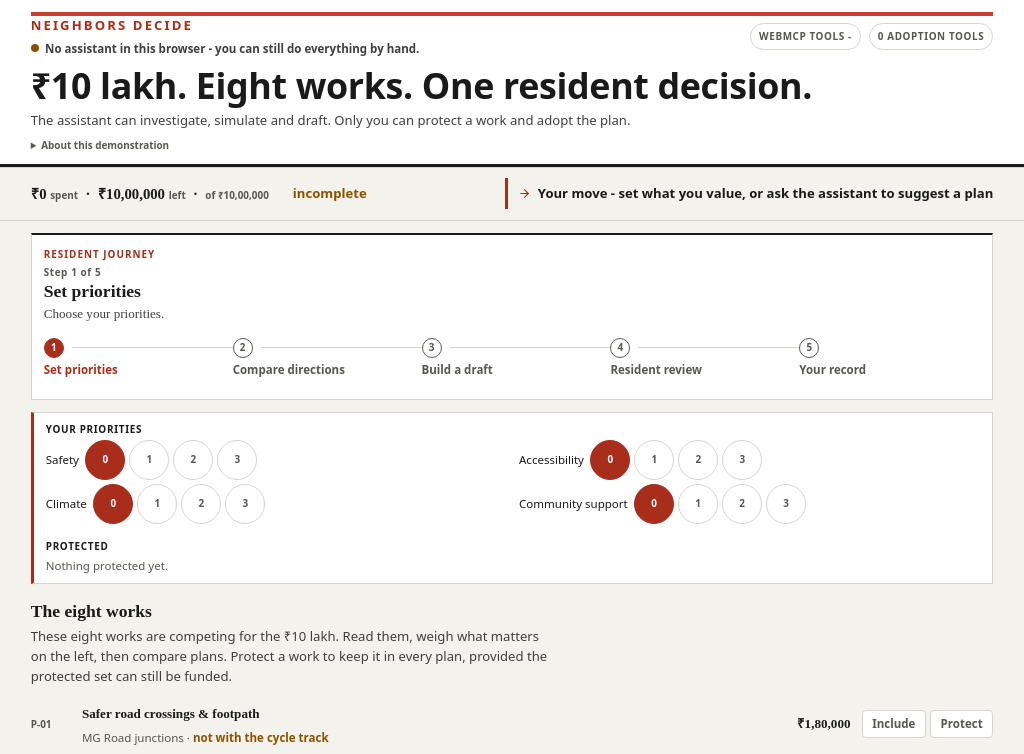
Test: priorities + compare › the plans stay hidden until priorities are confirmed
Check: the text "incomplete" is shown, box [293,184,367,204]
Check: the text "Step 1 of 5" is shown, box [44,265,101,279]
Click the radio button named "Safety 3".
click(237, 460)  # box [217,440,257,480]
(page scrolled)
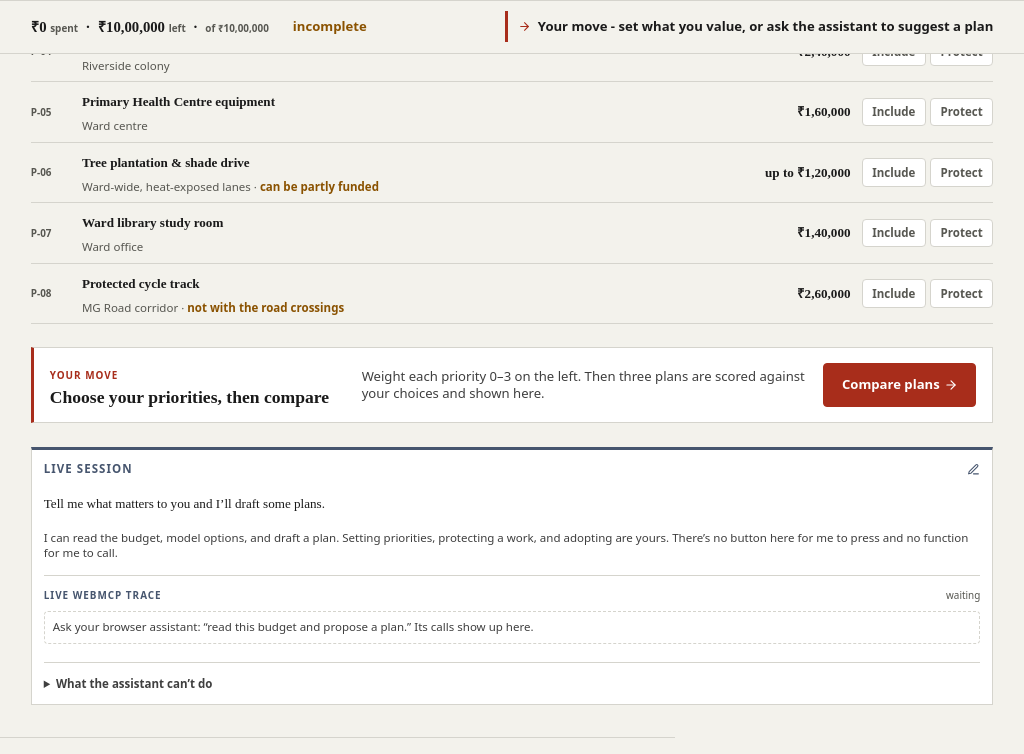
Click the button "Compare plans".
click(900, 385)  # box [823,363,976,407]
(page scrolled)
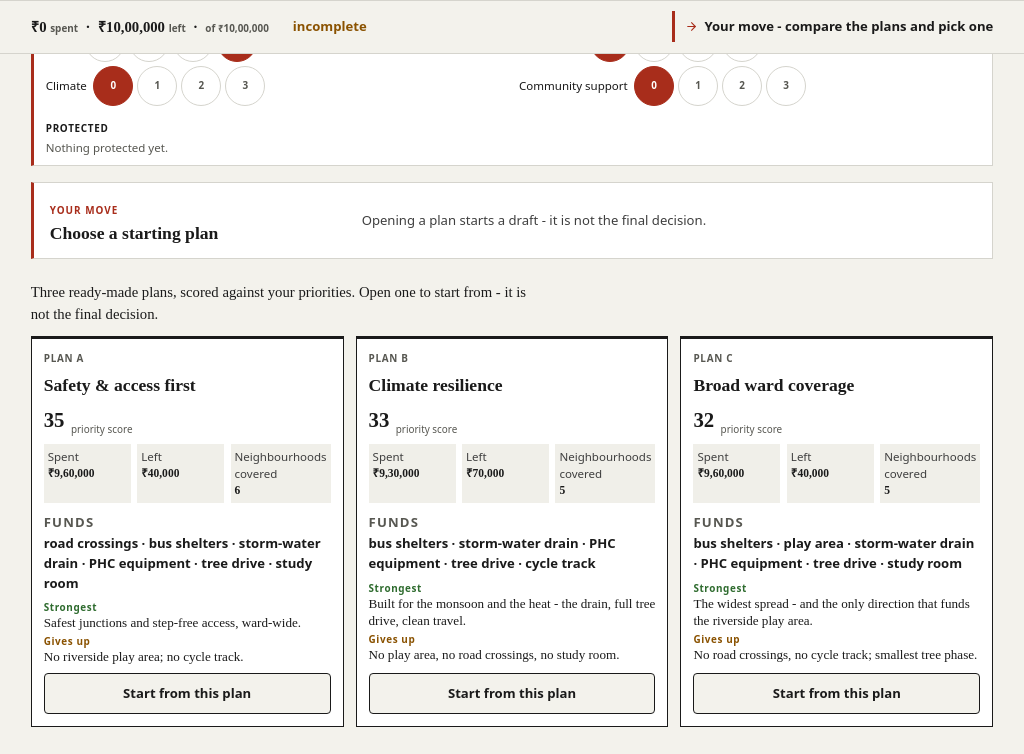
Check: the heading "Safety & access first" is shown, box [44,375,196,395]
